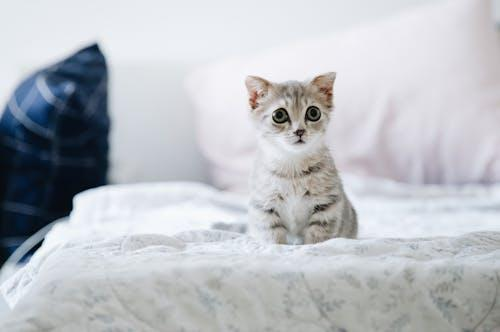kedo: (245, 71, 357, 246)
